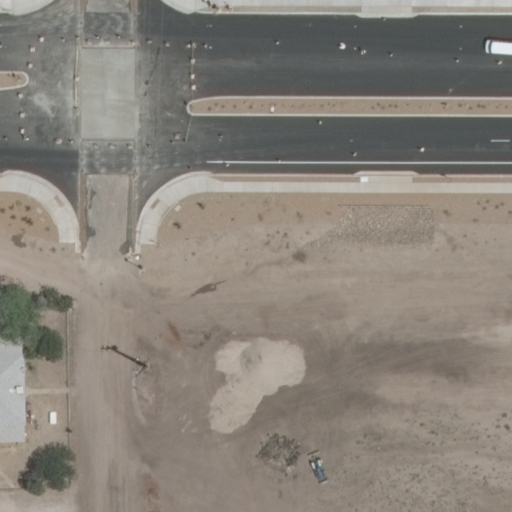DT: (127, 352, 154, 380)
